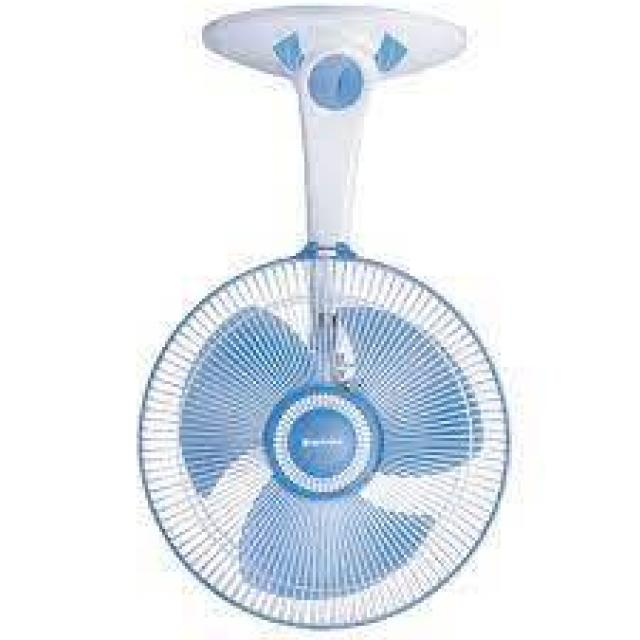fan: (128, 1, 520, 634)
